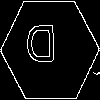D: (25, 25, 57, 72)
